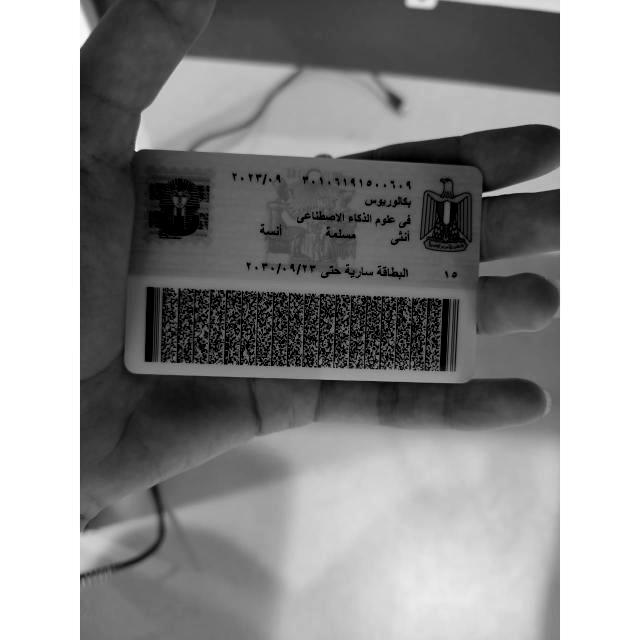id_card: (124, 151, 481, 382)
